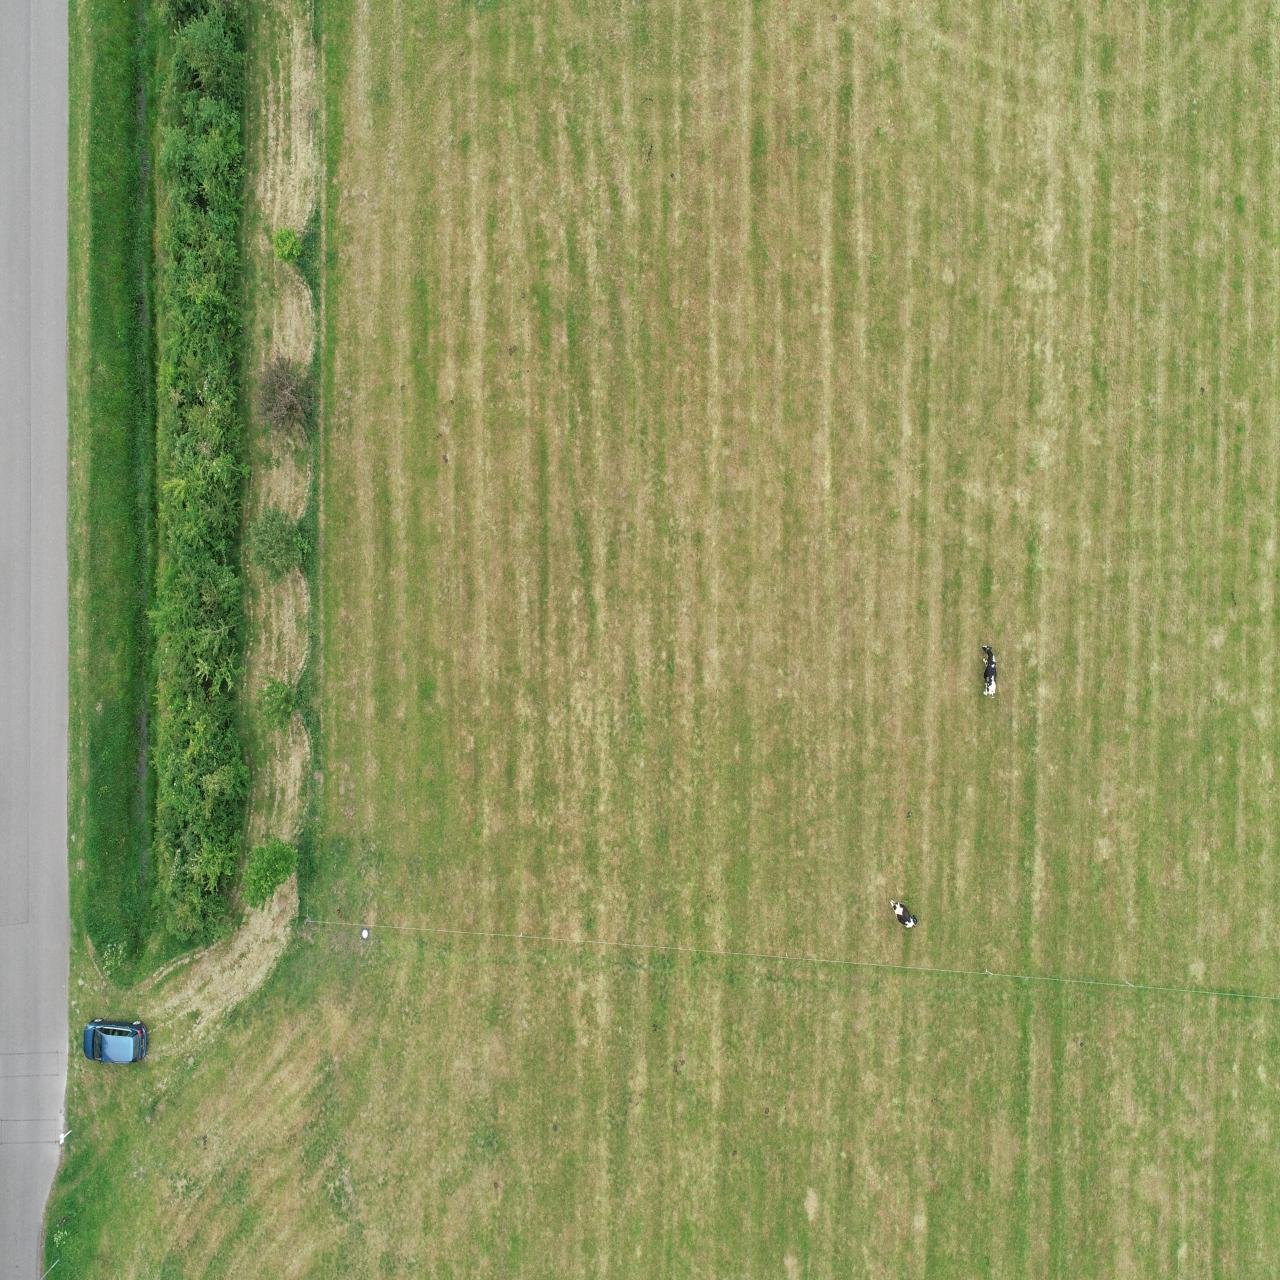cow: (980, 641, 999, 700), (890, 898, 919, 931)
